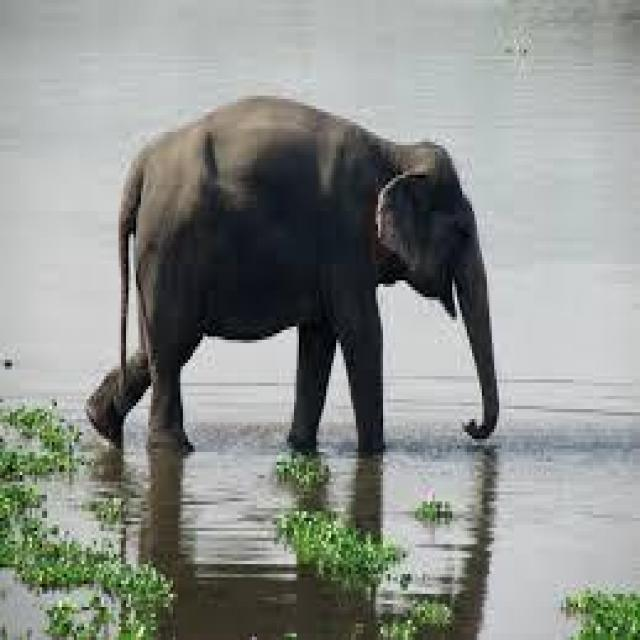Elephant: (81, 92, 496, 449)
